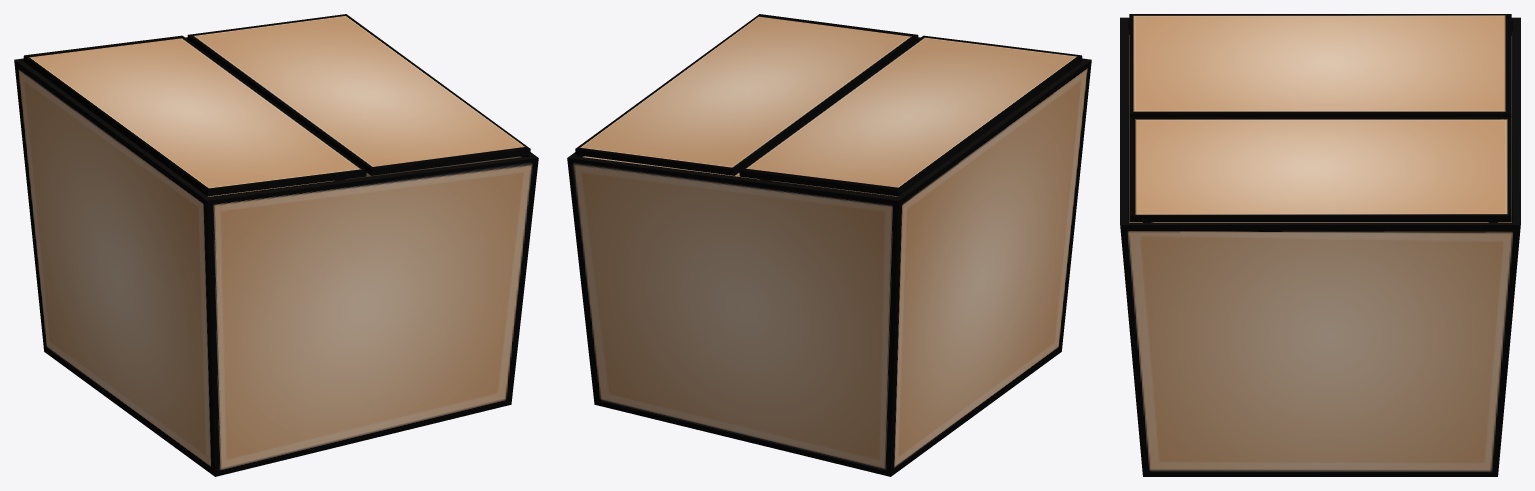
The model's file is Box_Slanted.fbx.
The picture shows the model from 3 angles, left to right: view 1: azimuth 30°, elevation 25°; view 2: azimuth 150°, elevation 25°; view 3: azimuth 270°, elevation 25°; orthographic projection. The views are drawn at different scales.
Visible parts, largest first — view 1: b_Slanted_Base, b_Slanted_Flap_01, b_Slanted_Flap_02; view 2: b_Slanted_Base, b_Slanted_Flap_01, b_Slanted_Flap_02; view 3: b_Slanted_Base, b_Slanted_Flap_02, b_Slanted_Flap_01.
Part boxes in pixels (<box>): b_Slanted_Base: <box>14,37,538,476</box>; b_Slanted_Flap_01: <box>23,35,366,196</box>; b_Slanted_Flap_02: <box>187,14,530,175</box>; b_Slanted_Base: <box>567,37,1091,476</box>; b_Slanted_Flap_01: <box>739,35,1082,196</box>; b_Slanted_Flap_02: <box>575,14,918,175</box>; b_Slanted_Base: <box>1120,17,1520,476</box>; b_Slanted_Flap_02: <box>1129,117,1511,221</box>; b_Slanted_Flap_01: <box>1129,14,1511,117</box>.
Size of the model in its own units: 9.92 by 8.43 by 10.
1 material, 1 textured.
